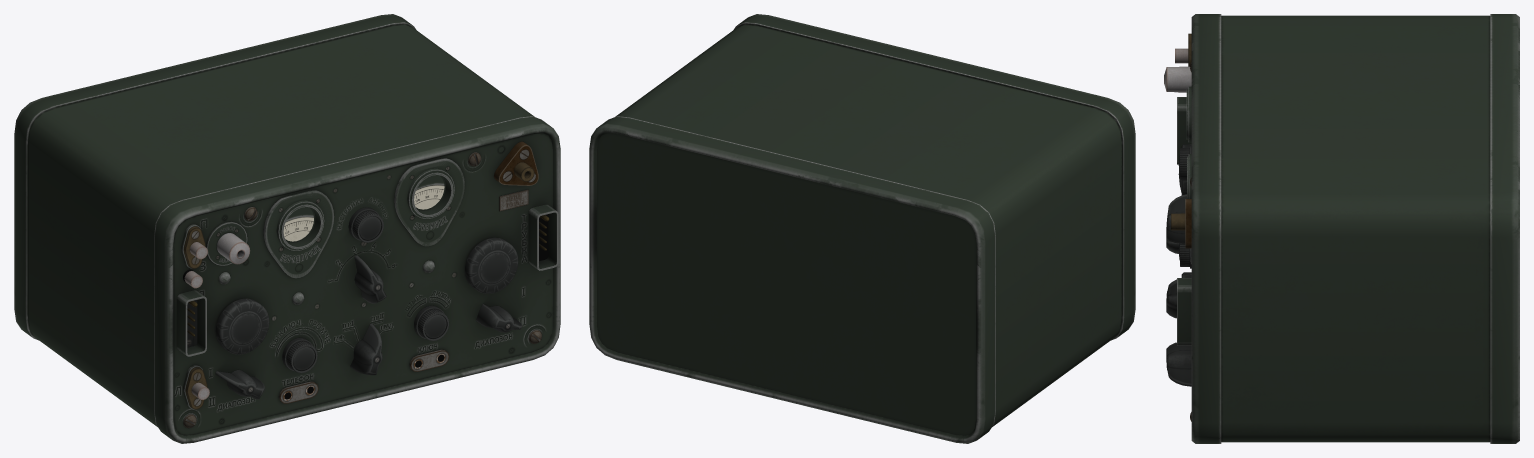
3 renders of one model, left to right at view 1: azimuth 30°, elevation 25°; view 2: azimuth 150°, elevation 25°; view 3: azimuth 270°, elevation 25°, orthographic. The views are drawn at different scales.
Parts seen in each view (by area): view 1: RB_M; view 2: RB_M; view 3: RB_M.
Boxes of the visible parts, box(x1,y1,x2,y2) form: RB_M: box(14, 14, 560, 443); RB_M: box(589, 14, 1135, 443); RB_M: box(1164, 14, 1519, 443).
Size of what is drawn, in the model's own units: 32.84 by 18.61 by 24.3.
Materials: 2 (2 with a texture image).
